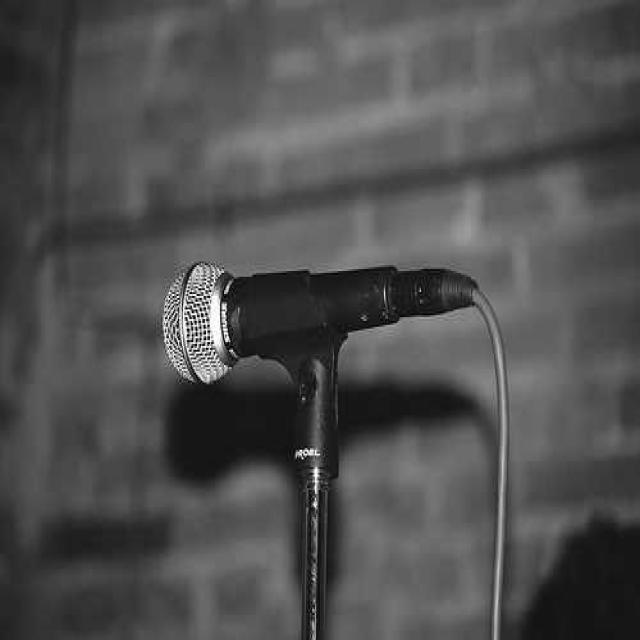microphone: (160, 257, 470, 378)
